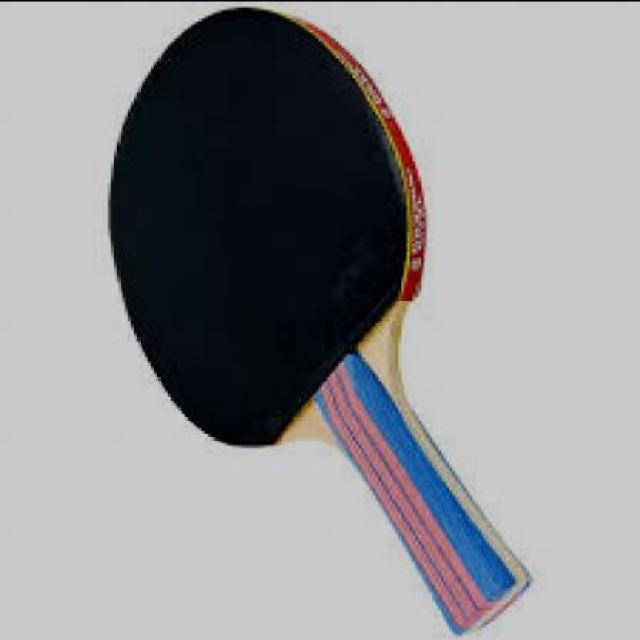table_tennis_racket: (98, 1, 434, 448)
